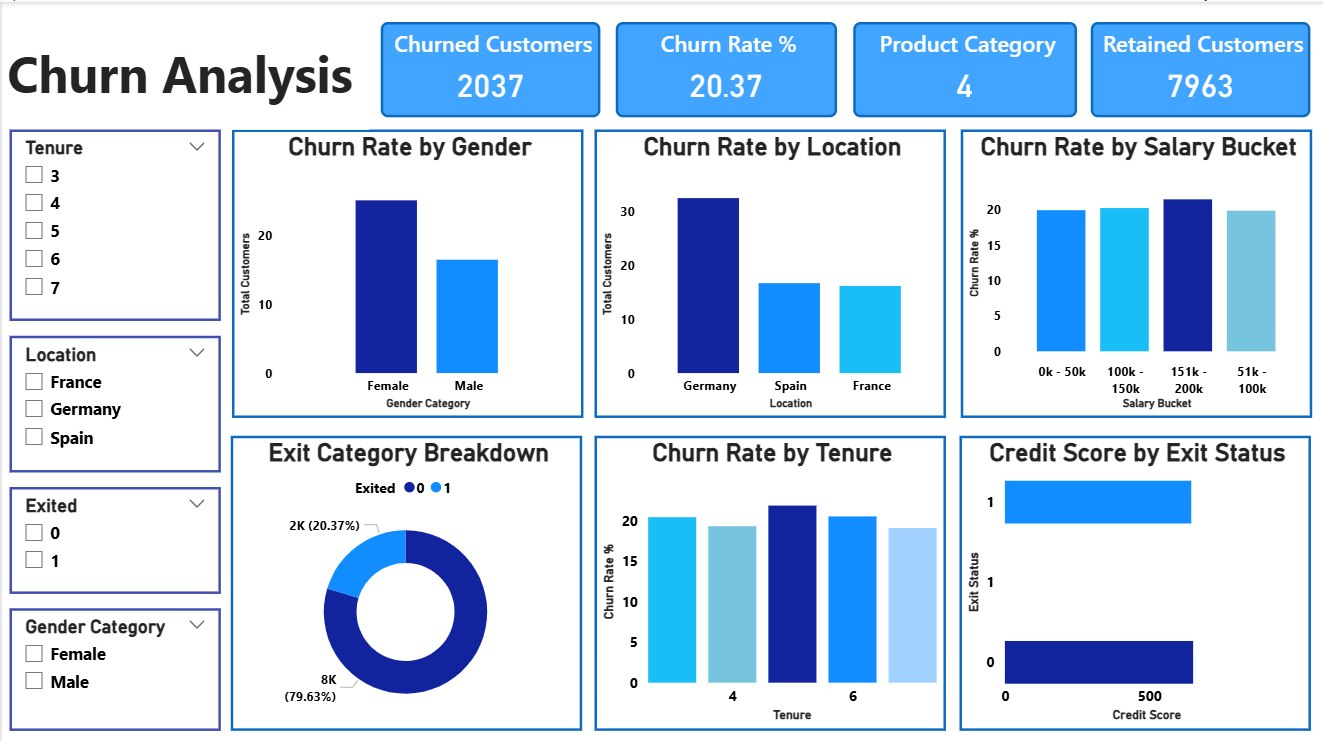

The page's visual inventory and layout, read from the dashboard file:
{"tool":"powerbi","page":{"name":"Churn Analysis","canvas":[1280,720],"ordinal":2},"visuals":[{"type":"clusteredColumnChart","title":"Churn Rate by Gender","fields":{"Category":["Gender.GenderCategory"],"Y":["Active Customers.Churn Rate %"]},"box":[222,123.1,339,278.7],"z":0},{"type":"clusteredColumnChart","title":"Churn Rate by Location","fields":{"Category":["Geography.GeographyLocation"],"Y":["Active Customers.Churn Rate %"]},"box":[571.9,123.1,339,278.7],"z":1000},{"type":"donutChart","title":"Exit Category Breakdown","fields":{"Category":["Bank_Churn.Exited"],"Y":["Active Customers.Total Customers"]},"box":[220.8,418.6,339,284.7],"z":2000},{"type":"clusteredColumnChart","title":"Churn Rate by Tenure","fields":{"Category":["Bank_Churn (2).Tenure"],"Y":["Active Customers.Churn Rate %"]},"box":[571.9,418.6,339,284.7],"z":3000},{"type":"barChart","title":"Credit Score by Exit Status","fields":{"Category":["Bank_Churn (2).Exited"],"Y":["Bank_Churn.Avg credit score"]},"box":[924.1,418.6,339,284.7],"z":4000},{"type":"clusteredColumnChart","title":"Churn Rate by Salary Bucket","fields":{"Y":["Active Customers.Churn Rate %"],"Category":["CustomerInfo.salary bucket"]},"box":[925.3,123.1,339,278.7],"z":5000},{"type":"textbox","box":[0,31.4,354.7,91.7],"z":5001},{"type":"card","title":"Churned Customers","fields":{"Values":["Bank_Churn.Churned customers"]},"box":[365.6,19.3,212.3,91.7],"z":5002},{"type":"card","title":"Churn Rate %","fields":{"Values":["Active Customers.Churn Rate %"]},"box":[592.4,19.3,213.5,91.7],"z":5003},{"type":"card","title":"Product Category","fields":{"Values":["Count(Bank_Churn.NumOfProducts)"]},"box":[821.6,19.3,216,91.7],"z":5004},{"type":"card","title":"Retained Customers","fields":{"Values":["Bank_Churn.Retain Customers"]},"box":[1050.8,19.3,212.3,91.7],"z":5005},{"type":"slicer","fields":{"Values":["Bank_Churn.Tenure"]},"box":[7.5,123.2,203.7,184.8],"z":5006},{"type":"slicer","fields":{"Values":["Geography.GeographyLocation"]},"box":[7.5,321.9,203.7,132],"z":5007},{"type":"slicer","fields":{"Values":["Bank_Churn.Exited"]},"box":[7.5,467.7,203.7,103.1],"z":5008},{"type":"slicer","fields":{"Values":["Gender.GenderCategory"]},"box":[7.5,584.7,203.7,118.2],"z":5009}]}

Visuals, with their boxes in screenshot pixels (x1, y1, x2, y2), scaled from the page's 1280x720 canvas onto the 1323x741 screenshot:
"Churn Rate by Gender" clusteredColumnChart: BBox(229, 127, 580, 414)
"Churn Rate by Location" clusteredColumnChart: BBox(591, 127, 942, 414)
"Exit Category Breakdown" donutChart: BBox(228, 431, 579, 724)
"Churn Rate by Tenure" clusteredColumnChart: BBox(591, 431, 942, 724)
"Credit Score by Exit Status" barChart: BBox(955, 431, 1306, 724)
"Churn Rate by Salary Bucket" clusteredColumnChart: BBox(956, 127, 1307, 414)
textbox: BBox(0, 32, 367, 127)
"Churned Customers" card: BBox(378, 20, 597, 114)
"Churn Rate %" card: BBox(612, 20, 833, 114)
"Product Category" card: BBox(849, 20, 1072, 114)
"Retained Customers" card: BBox(1086, 20, 1306, 114)
slicer - Bank_Churn.Tenure: BBox(8, 127, 218, 317)
slicer - Geography.GeographyLocation: BBox(8, 331, 218, 467)
slicer - Bank_Churn.Exited: BBox(8, 481, 218, 587)
slicer - Gender.GenderCategory: BBox(8, 602, 218, 723)
